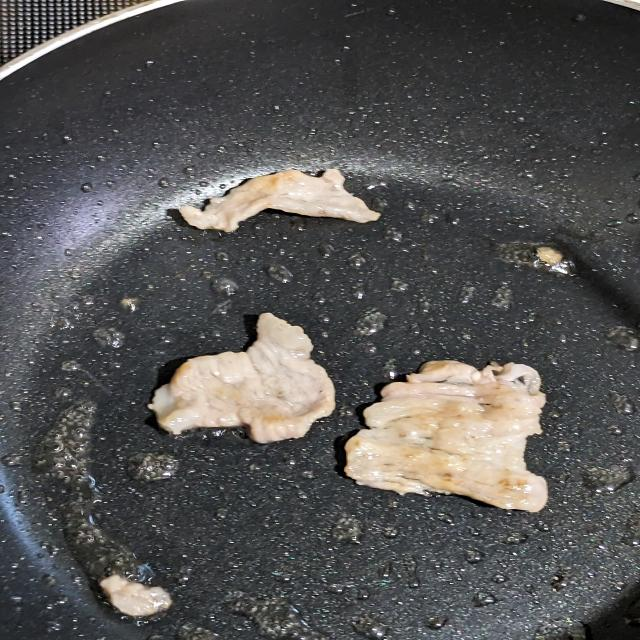OK cooked pork,: (320, 355, 559, 524), (135, 308, 348, 453), (154, 161, 400, 239)
